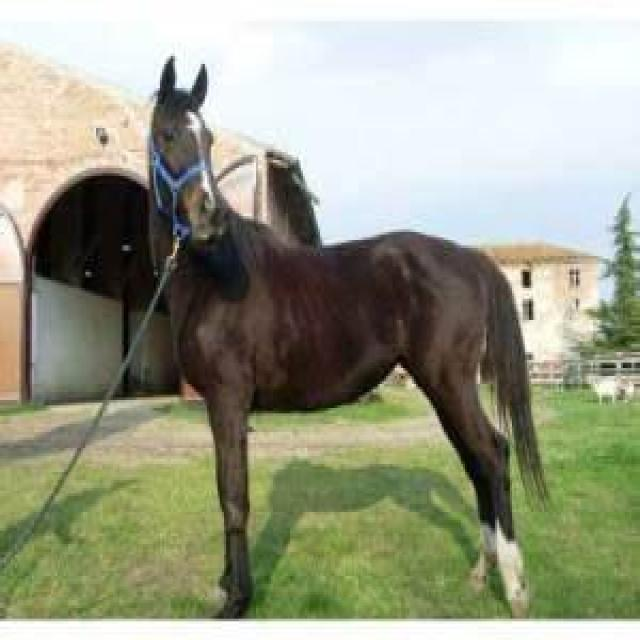horse: (149, 59, 548, 621)
